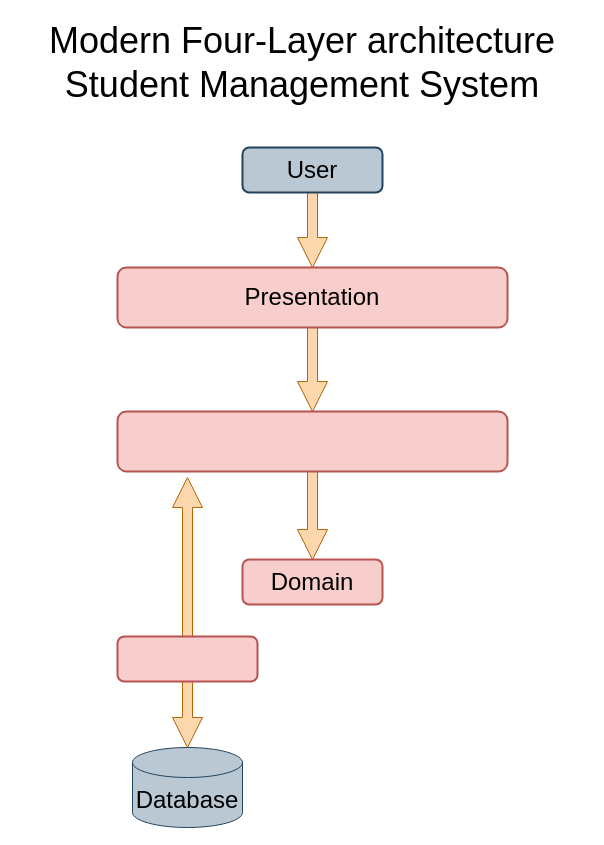
This 604x845 diagram has some shape labels left out. Each missing label, with the centre of its shape:
"Application" belongs at [312,441].
"Persistence" belongs at [187,658].
